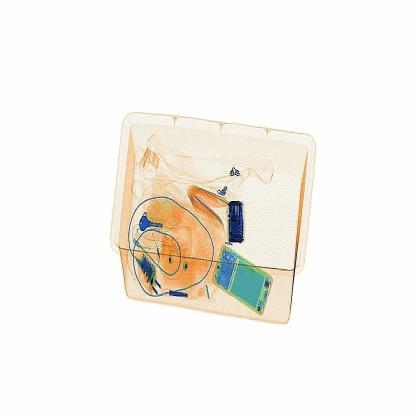scissors: (217, 188, 251, 252)
